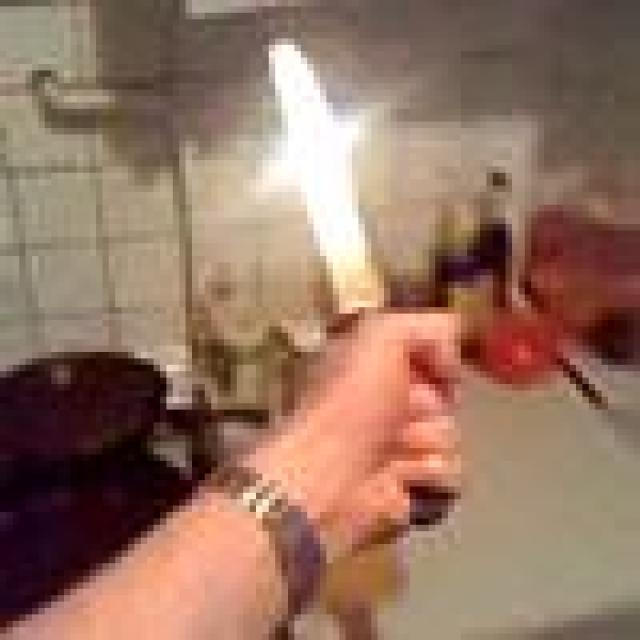knife: (270, 37, 372, 311)
